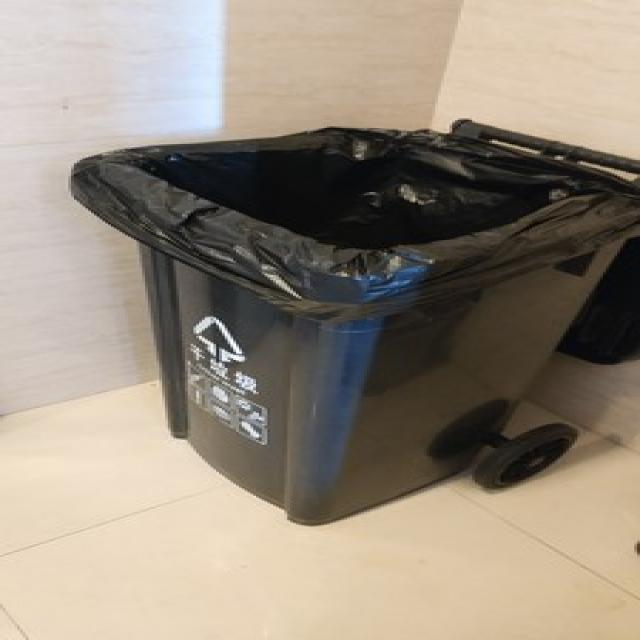ash bin: (63, 119, 637, 522)
